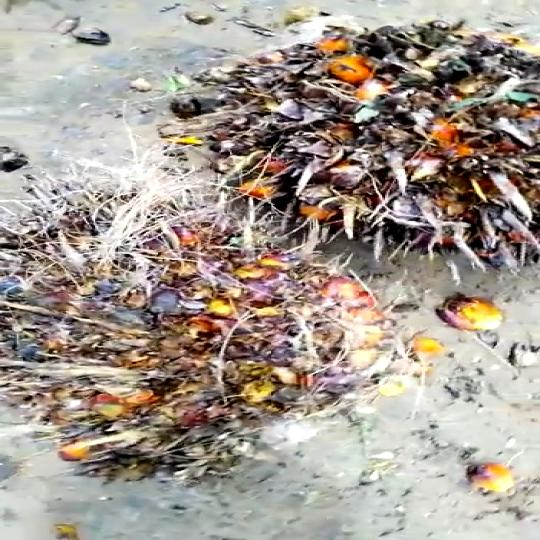terlalu masak: (0, 196, 431, 491), (155, 24, 540, 263)
